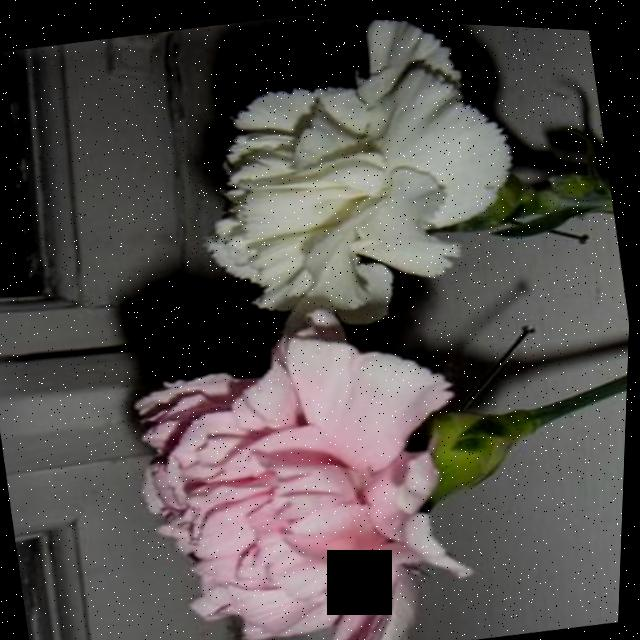carnation: (150, 7, 574, 363), (91, 294, 496, 640)
